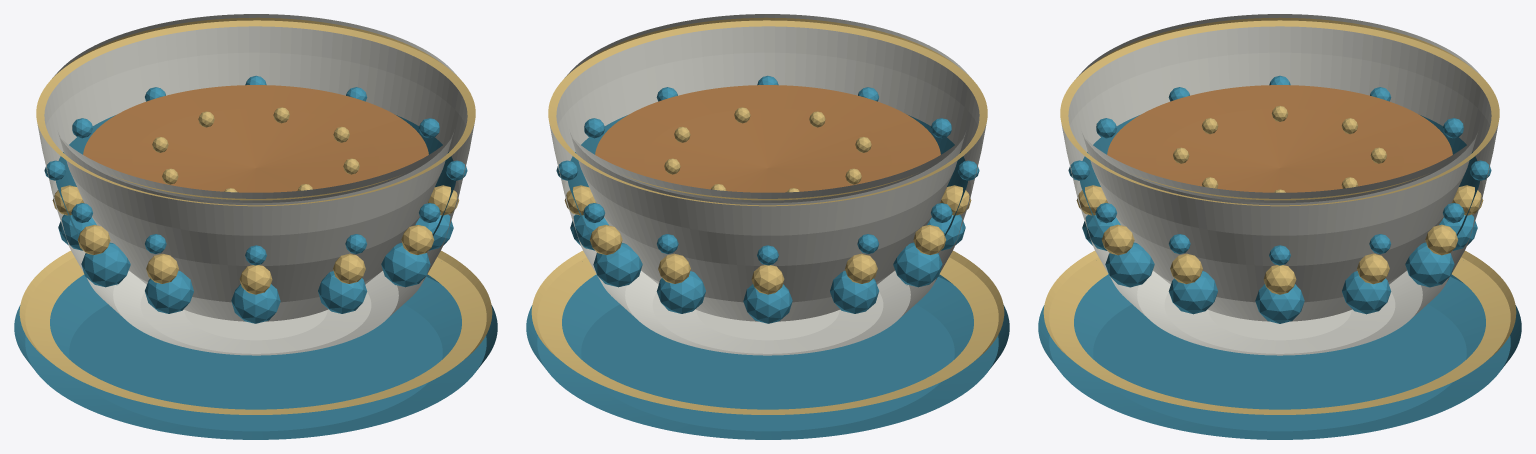
File: uzbek_piyala.glb
3 renders of one model, left to right at view 1: azimuth 30°, elevation 25°; view 2: azimuth 150°, elevation 25°; view 3: azimuth 270°, elevation 25°, orthographic.
Parts seen in each view (by area): view 1: ceramic_bowl, decorative_saucer, tea_surface, gold_saucer_rim, gold_lip, motif2_0, motif6_0, motif5_0, motif3_0, blue_pattern_underband, motif4_0, motif5_1 (+8 smaller); view 2: ceramic_bowl, decorative_saucer, tea_surface, gold_saucer_rim, gold_lip, motif10_0, motif6_0, motif7_0, motif9_0, blue_pattern_underband, motif8_0, motif7_1 (+8 smaller); view 3: ceramic_bowl, decorative_saucer, tea_surface, gold_saucer_rim, gold_lip, motif2_0, motif10_0, motif1_0, motif11_0, blue_pattern_underband, motif0_0, motif1_1 (+8 smaller).
Part boxes in pixels (bbox=[...]): ceramic_bowl: bbox=[37, 14, 474, 355]; decorative_saucer: bbox=[14, 274, 497, 439]; tea_surface: bbox=[83, 85, 428, 192]; gold_saucer_rim: bbox=[19, 250, 492, 414]; gold_lip: bbox=[36, 17, 475, 206]; motif2_0: bbox=[381, 243, 430, 287]; motif6_0: bbox=[81, 242, 130, 287]; motif5_0: bbox=[145, 270, 193, 313]; motif3_0: bbox=[318, 271, 367, 313]; blue_pattern_underband: bbox=[55, 115, 456, 235]; motif4_0: bbox=[231, 284, 280, 323]; motif5_1: bbox=[146, 253, 178, 283]; ceramic_bowl: bbox=[549, 14, 986, 355]; decorative_saucer: bbox=[526, 274, 1009, 439]; tea_surface: bbox=[595, 85, 940, 192]; gold_saucer_rim: bbox=[531, 250, 1004, 414]; gold_lip: bbox=[548, 17, 987, 206]; motif10_0: bbox=[593, 243, 642, 287]; motif6_0: bbox=[893, 242, 942, 287]; motif7_0: bbox=[830, 270, 878, 313]; motif9_0: bbox=[656, 271, 705, 313]; blue_pattern_underband: bbox=[567, 115, 968, 235]; motif8_0: bbox=[743, 284, 792, 323]; motif7_1: bbox=[845, 253, 877, 283]; ceramic_bowl: bbox=[1061, 14, 1498, 355]; decorative_saucer: bbox=[1038, 274, 1521, 439]; tea_surface: bbox=[1107, 85, 1452, 192]; gold_saucer_rim: bbox=[1043, 250, 1516, 414]; gold_lip: bbox=[1060, 17, 1499, 206]; motif2_0: bbox=[1105, 242, 1154, 287]; motif10_0: bbox=[1405, 242, 1454, 287]; motif1_0: bbox=[1168, 271, 1217, 314]; motif11_0: bbox=[1342, 271, 1391, 314]; blue_pattern_underband: bbox=[1079, 115, 1480, 235]; motif0_0: bbox=[1255, 284, 1304, 323]; motif1_1: bbox=[1170, 253, 1202, 284].
Bounding box in the file's own units: 0.176 × 0.1 × 0.176.
